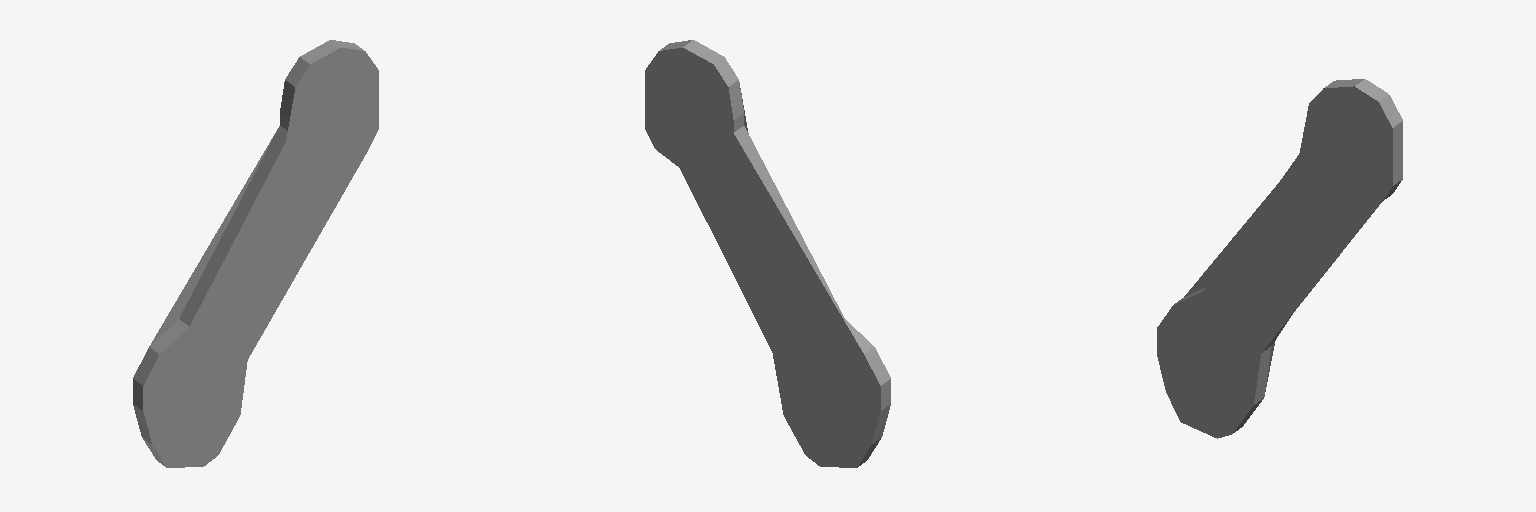
Rendered from collectable_tool.obj.
The picture shows the model from 3 angles: view 1: azimuth 30°, elevation 25°; view 2: azimuth 150°, elevation 25°; view 3: azimuth 330°, elevation 25°; orthographic projection.
Visible parts, largest first — view 1: MeshBody1; view 2: MeshBody1; view 3: MeshBody1.
Part boxes in pixels (bbox=[...]): MeshBody1: bbox=[133, 40, 378, 467]; MeshBody1: bbox=[645, 40, 890, 467]; MeshBody1: bbox=[1157, 79, 1402, 438].
Size of the model in its own units: 0.6428 by 1 by 0.05.